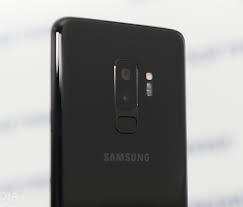samsung: (43, 13, 191, 207)
